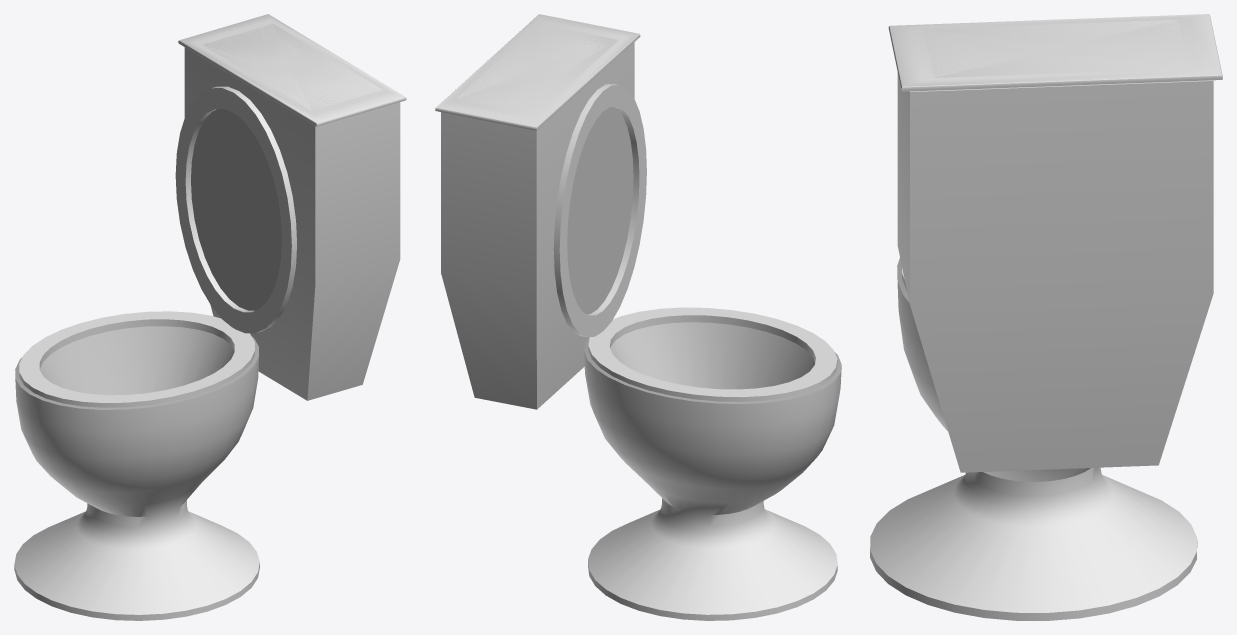
3 views of the same model, side by side, from view 1: azimuth 30°, elevation 25°; view 2: azimuth 150°, elevation 25°; view 3: azimuth 270°, elevation 25° (orthographic). The views are drawn at different scales.
Visible parts, largest first — view 1: WC; view 2: WC; view 3: WC.
Part boxes in pixels (x1,y1,x2,y2): WC: [14, 14, 406, 620]; WC: [435, 14, 841, 620]; WC: [870, 14, 1222, 620].
Bounding box in the file's own units: 452 × 591 × 310.
